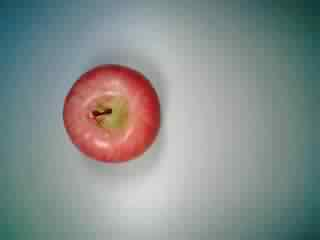apple: (60, 61, 164, 165)
